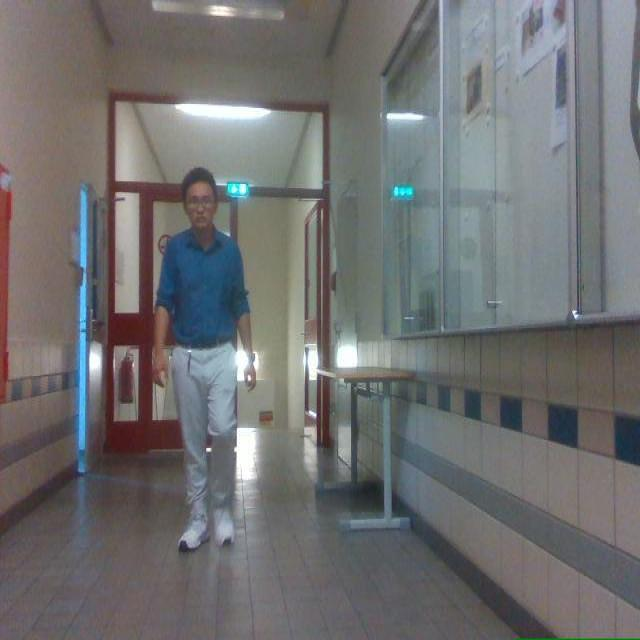humans: (152, 167, 255, 551)
objects: (319, 367, 414, 529)
